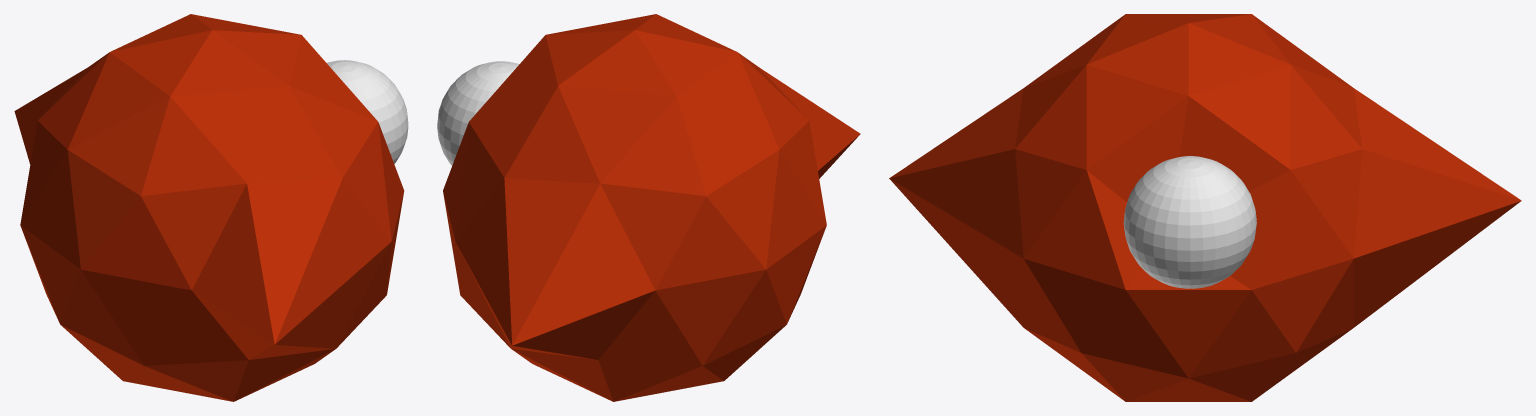
Rendered from Ghosteye.fbx.
3 renders of one model, left to right at view 1: azimuth 30°, elevation 25°; view 2: azimuth 150°, elevation 25°; view 3: azimuth 270°, elevation 25°, orthographic. The views are drawn at different scales.
Visible parts, largest first — view 1: Icosphere, Sphere; view 2: Icosphere, Sphere; view 3: Icosphere, Sphere.
Boxes of the visible parts, <box> form: Icosphere: <box>14,14,404,401</box>; Sphere: <box>327,60,408,163</box>; Icosphere: <box>443,14,860,401</box>; Sphere: <box>437,61,519,165</box>; Icosphere: <box>889,14,1521,401</box>; Sphere: <box>1123,156,1256,288</box>.
Bounding box in the file's own units: 206 × 200 × 310.
